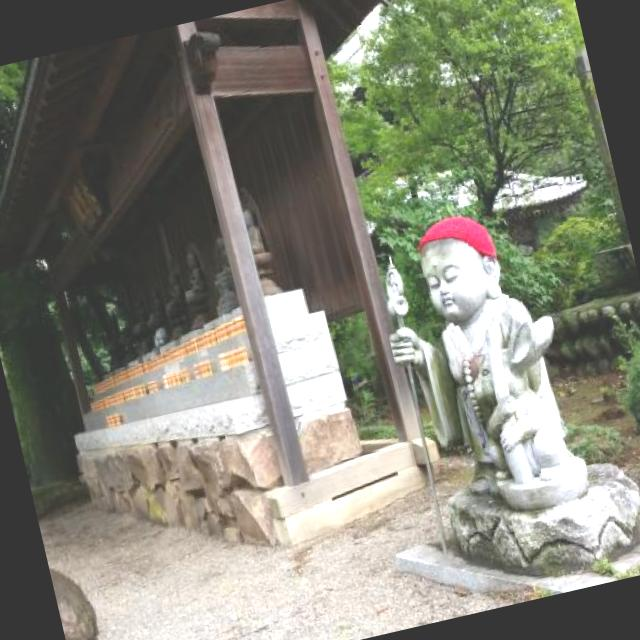Person: (364, 200, 588, 507)
